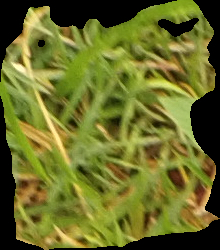grass: (1, 1, 219, 248)
